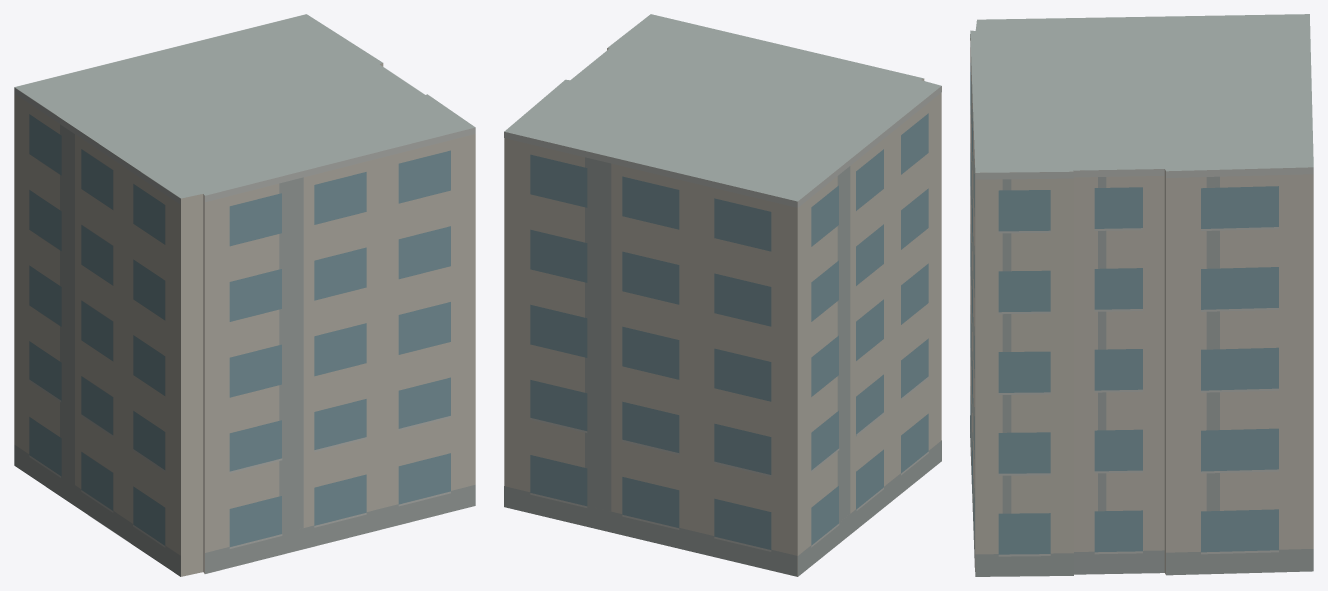
Rendered from survey-upis-32575197.glb.
The picture shows the model from 3 angles, left to right: view 1: azimuth 30°, elevation 25°; view 2: azimuth 150°, elevation 25°; view 3: azimuth 270°, elevation 25°; orthographic projection. The views are drawn at different scales.
Visible parts, largest first — view 1: survey-upis-32575197.tmp; view 2: survey-upis-32575197.tmp; view 3: survey-upis-32575197.tmp.
Boxes of the visible parts, box(x1,y1,x2,y2) form: survey-upis-32575197.tmp: box(14, 14, 475, 576); survey-upis-32575197.tmp: box(504, 14, 941, 576); survey-upis-32575197.tmp: box(970, 14, 1313, 576).
Size of the model in its own units: 12.07 by 14.3 by 11.03.
